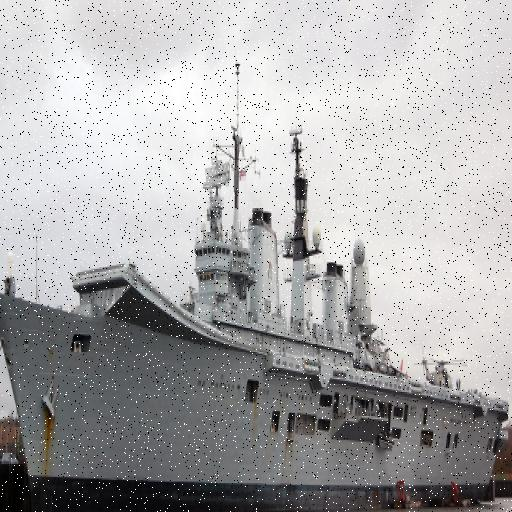Portanaves: (1, 50, 512, 512)
